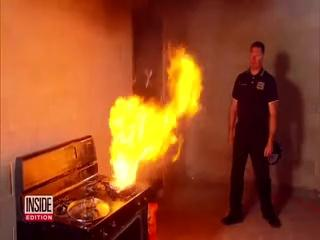Fire: (108, 39, 206, 187)
